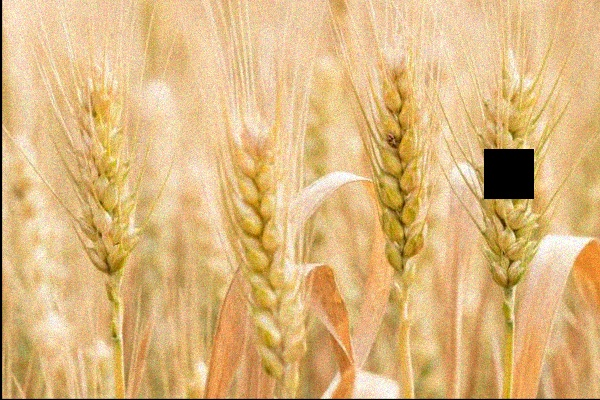wheat: (219, 121, 319, 368), (369, 38, 428, 310), (71, 56, 136, 300), (478, 58, 539, 305)
